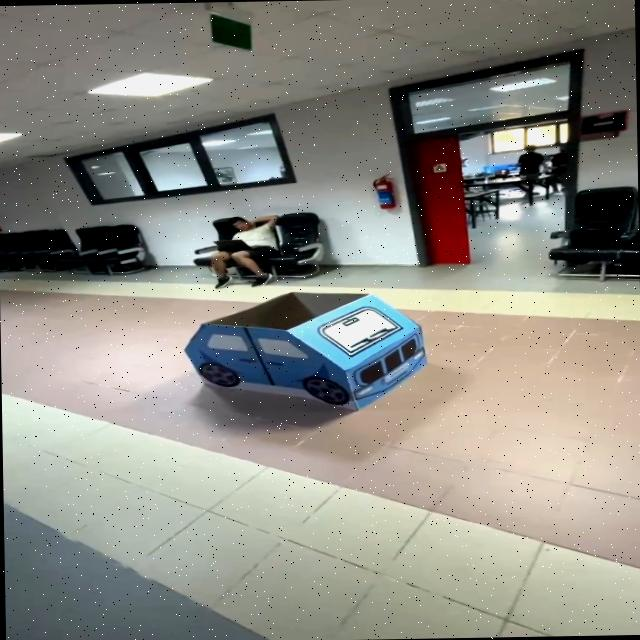blue_car: (135, 282, 457, 418)
